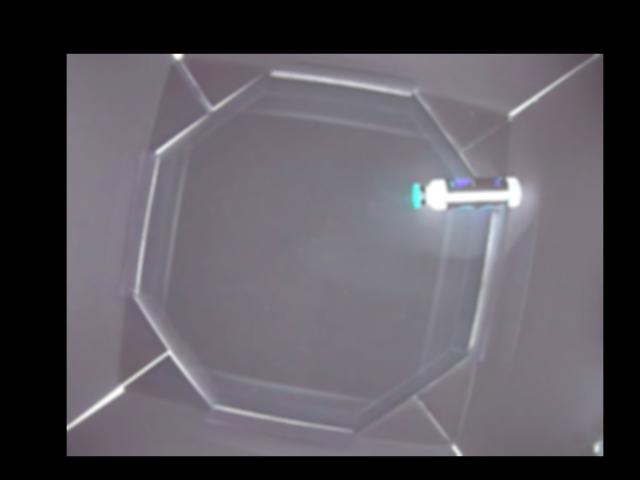Medicine: (412, 176, 522, 210)
